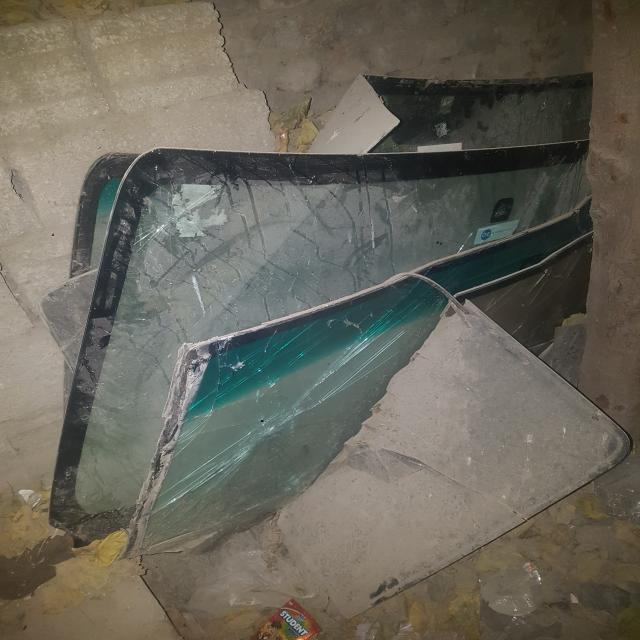electronic: (50, 76, 632, 640)
